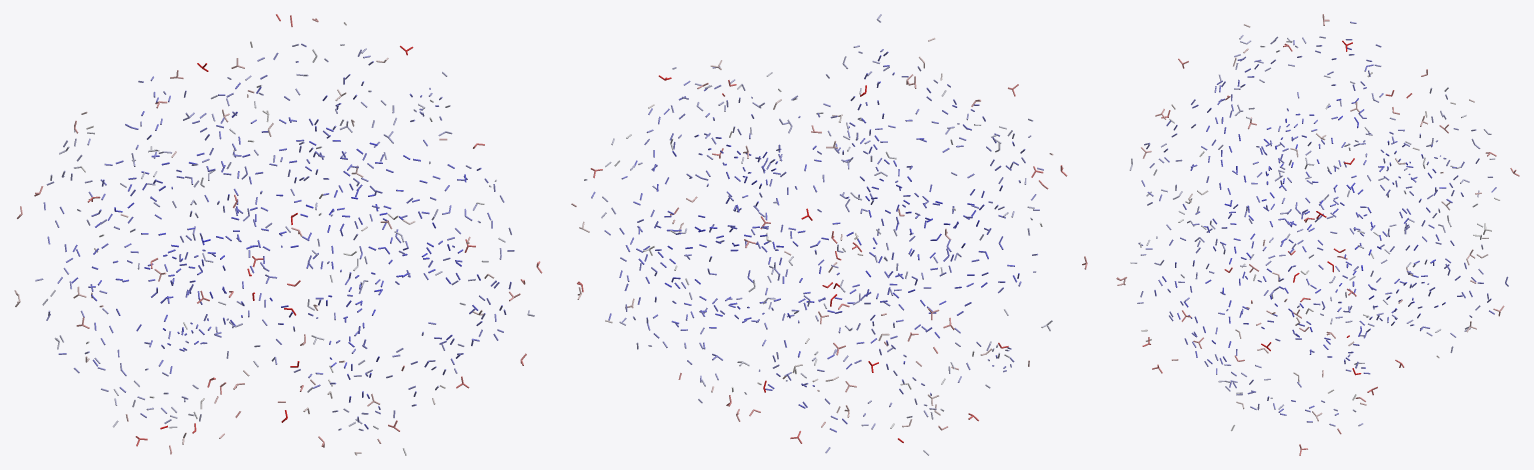
The model's file is 4hhb__lines__b-factor__H.glb.
3 renders of one model, left to right at view 1: azimuth 30°, elevation 25°; view 2: azimuth 150°, elevation 25°; view 3: azimuth 270°, elevation 25°, orthographic. The views are drawn at different scales.
Visible parts, largest first — view 1: Renderer Node; view 2: Renderer Node; view 3: Renderer Node.
Part boxes in pixels (left/top/right/bottom): Renderer Node: left=14, top=14, right=542, bottom=455; Renderer Node: left=571, top=14, right=1087, bottom=455; Renderer Node: left=1116, top=14, right=1519, bottom=455.
Bounding box in the file's own units: 68.28 × 58.11 × 58.77.
